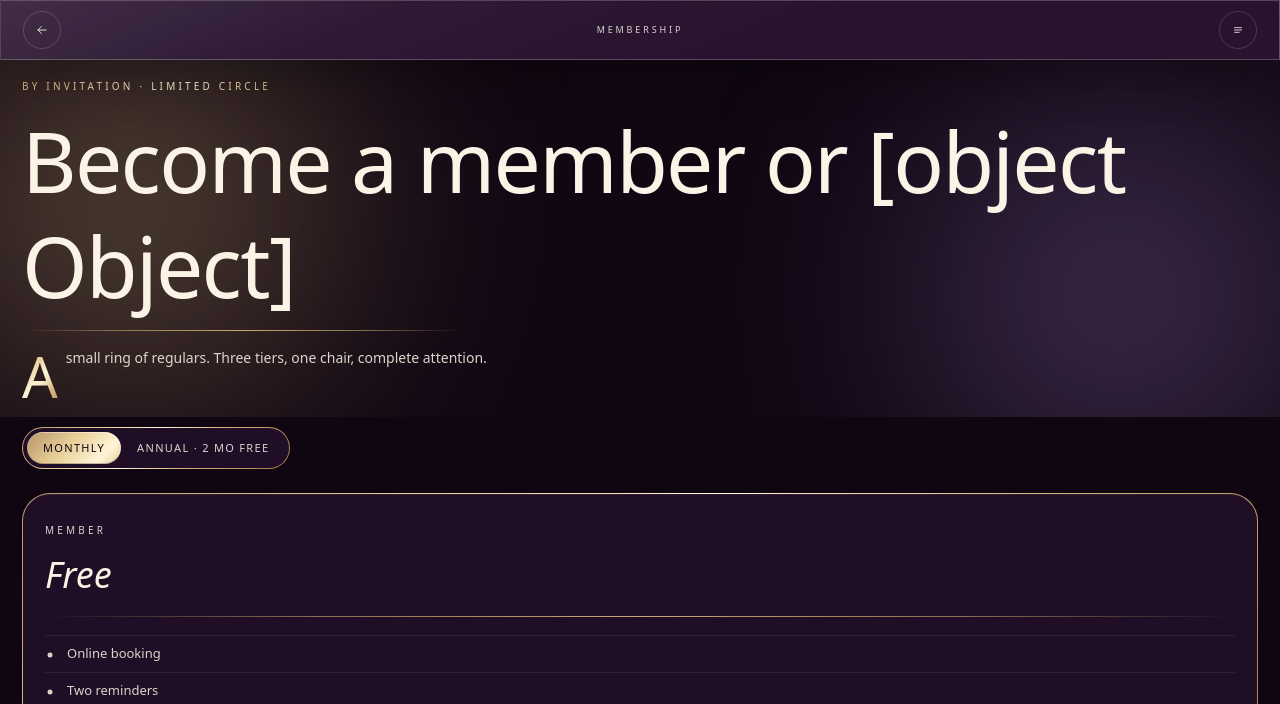
Test: MembershipPage › site settings overrides + discount › annual view multiplies the override by 10
Click the tab "Annual · 2 mo free": (203, 448) [121, 432, 285, 464]
(page scrolled)
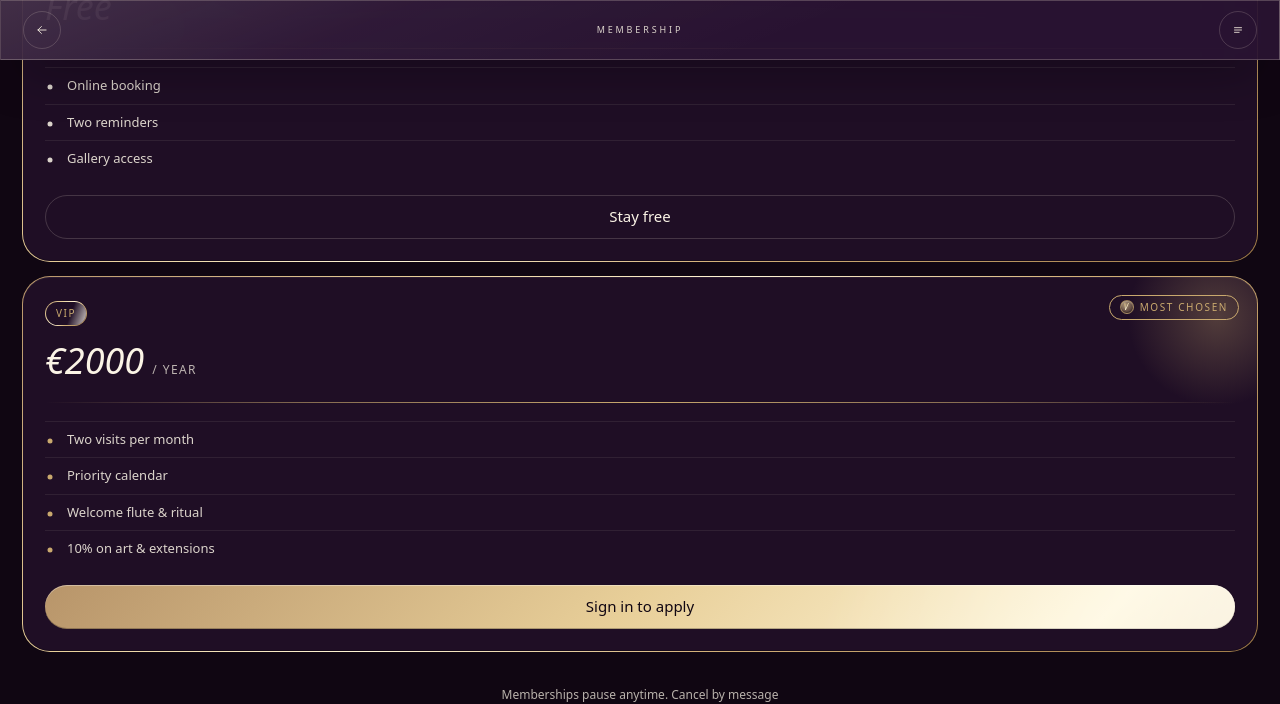
Expected: the text "€2000" is shown, [45, 334, 144, 388]
